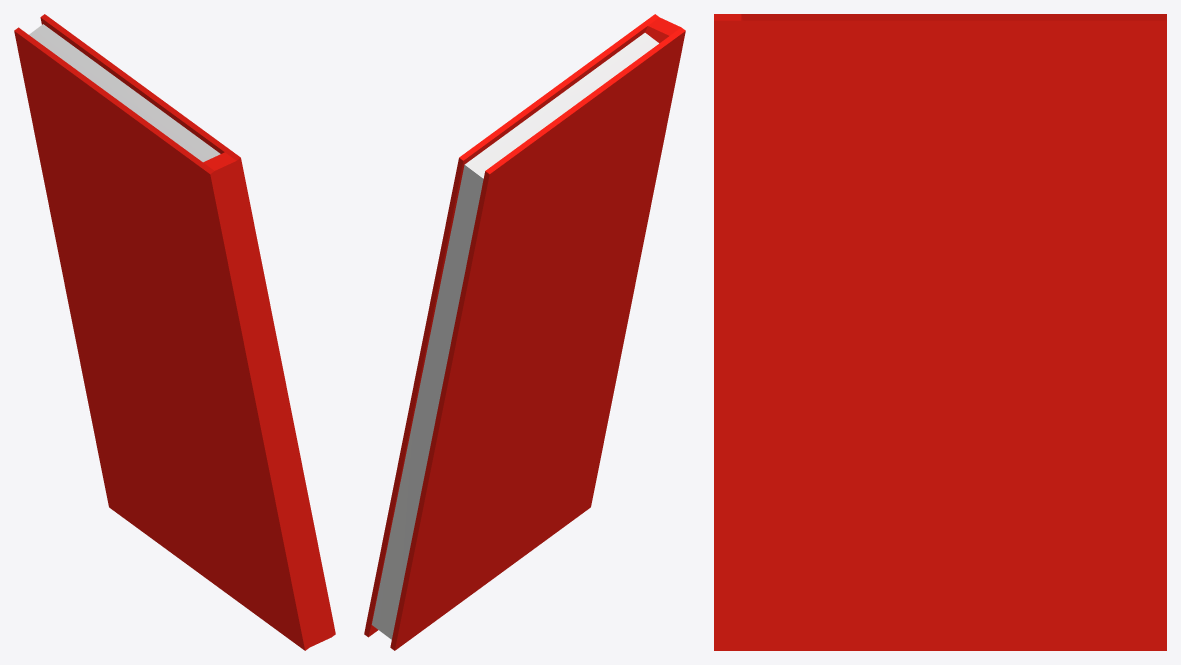
Rendered from Livro3.fbx.
The picture shows the model from 3 angles, left to right: view 1: azimuth 30°, elevation 25°; view 2: azimuth 150°, elevation 25°; view 3: azimuth 270°, elevation 25°; orthographic projection. The views are drawn at different scales.
Parts seen in each view (by area): view 1: Bookshelf.011; view 2: Bookshelf.011; view 3: Bookshelf.011.
Boxes of the visible parts, box(x1,y1,x2,y2) form: Bookshelf.011: box(14, 14, 335, 650); Bookshelf.011: box(364, 14, 685, 650); Bookshelf.011: box(714, 14, 1166, 650).
Size of the model in its own units: 8.36 by 32.37 by 22.61.
